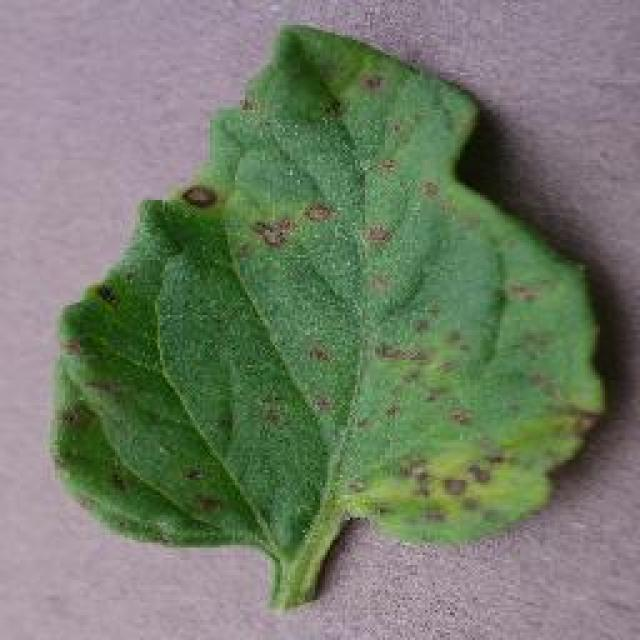Tomato target spot leaf: (48, 21, 610, 559)
